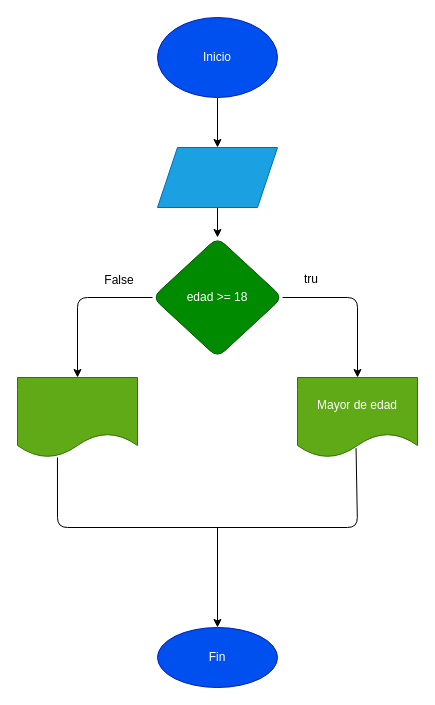
The diagram is 435 pixels wide and 705 high, and some of its shapes have lost their labels. The shapes that lost their labels are listed below. From the top down, each one's centre as x and y in pixels, then its label:
At point (217, 177): "edad".
At point (77, 417): "Menor de edad".
